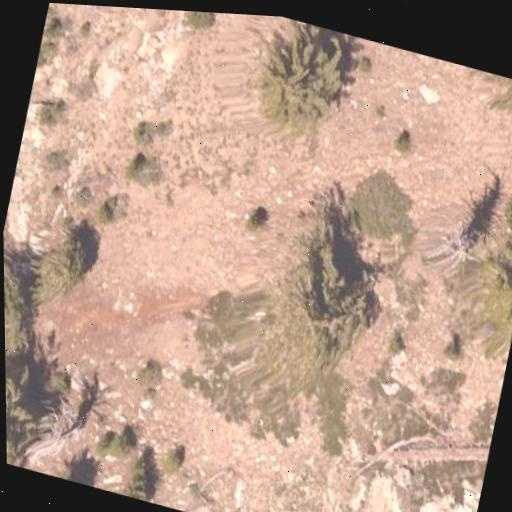tree-top: (235, 168, 403, 378), (254, 19, 360, 139), (5, 348, 77, 475), (451, 217, 512, 347), (29, 210, 108, 308)
